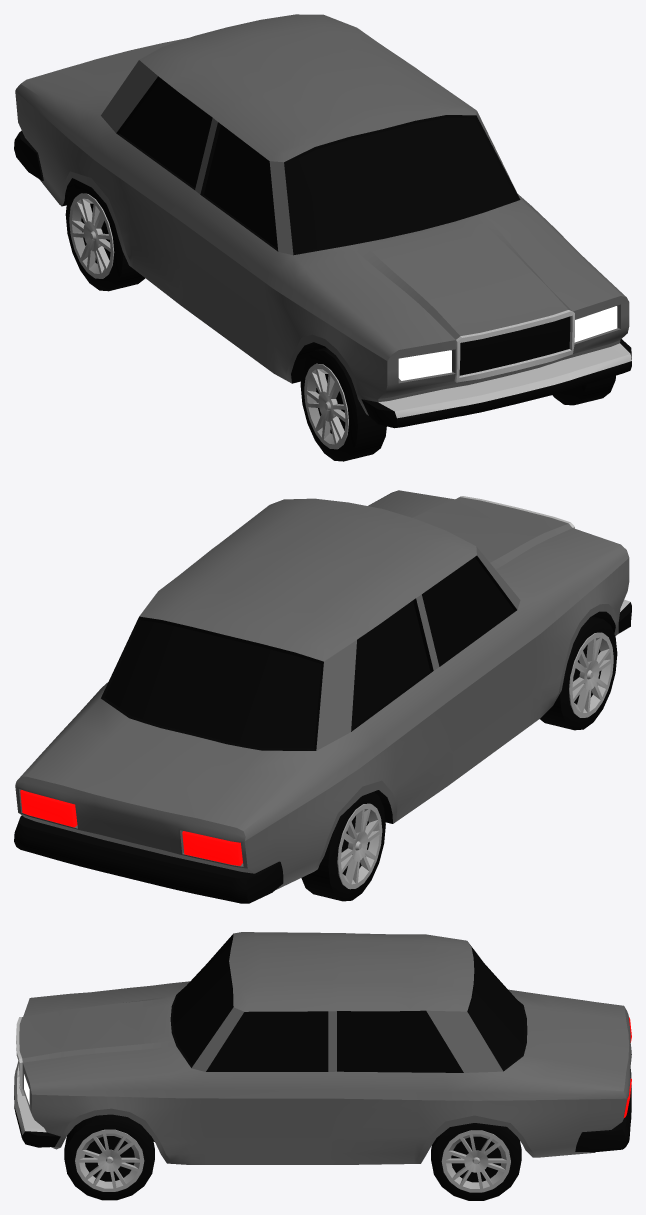
The model's file is low_poly_lada_2107.glb.
The picture shows the model from 3 angles, top to bottom: view 1: azimuth 30°, elevation 25°; view 2: azimuth 150°, elevation 25°; view 3: azimuth 270°, elevation 25°; orthographic projection. The views are drawn at different scales.
Visible parts, largest first — view 1: 2107_CarPaint_0, 2107_Window_0, 2107_Plastic_0, 2107_Chrome_0, FR_Wheel, BR_Wheel, 2107_FrontLights_0, FL_Wheel; view 2: 2107_CarPaint_0, 2107_Window_0, 2107_Plastic_0, BR_Wheel, FR_Wheel, 2107_RearLights_0; view 3: 2107_CarPaint_0, 2107_Window_0, FL_Wheel, BL_Wheel, 2107_Plastic_0, 2107_Chrome_0.
Boxes of the visible parts, x1,y1,x2,y2 form: 2107_CarPaint_0: [15, 14, 629, 415]; 2107_Window_0: [120, 78, 516, 252]; 2107_Plastic_0: [14, 76, 631, 428]; 2107_Chrome_0: [378, 310, 631, 418]; FR_Wheel: [300, 347, 386, 461]; BR_Wheel: [65, 181, 145, 291]; 2107_FrontLights_0: [398, 306, 617, 380]; FL_Wheel: [552, 375, 615, 405]; 2107_CarPaint_0: [15, 490, 629, 889]; 2107_Window_0: [104, 557, 513, 748]; 2107_Plastic_0: [14, 555, 631, 903]; BR_Wheel: [301, 792, 385, 901]; FR_Wheel: [540, 616, 617, 730]; 2107_RearLights_0: [20, 790, 242, 865]; 2107_CarPaint_0: [19, 932, 631, 1164]; 2107_Window_0: [173, 936, 524, 1072]; FL_Wheel: [64, 1114, 154, 1200]; BL_Wheel: [431, 1123, 521, 1200]; 2107_Plastic_0: [14, 933, 631, 1152]; 2107_Chrome_0: [14, 1017, 46, 1134].
Size of the model in its own units: 1.64 by 1.4 by 4.08.
